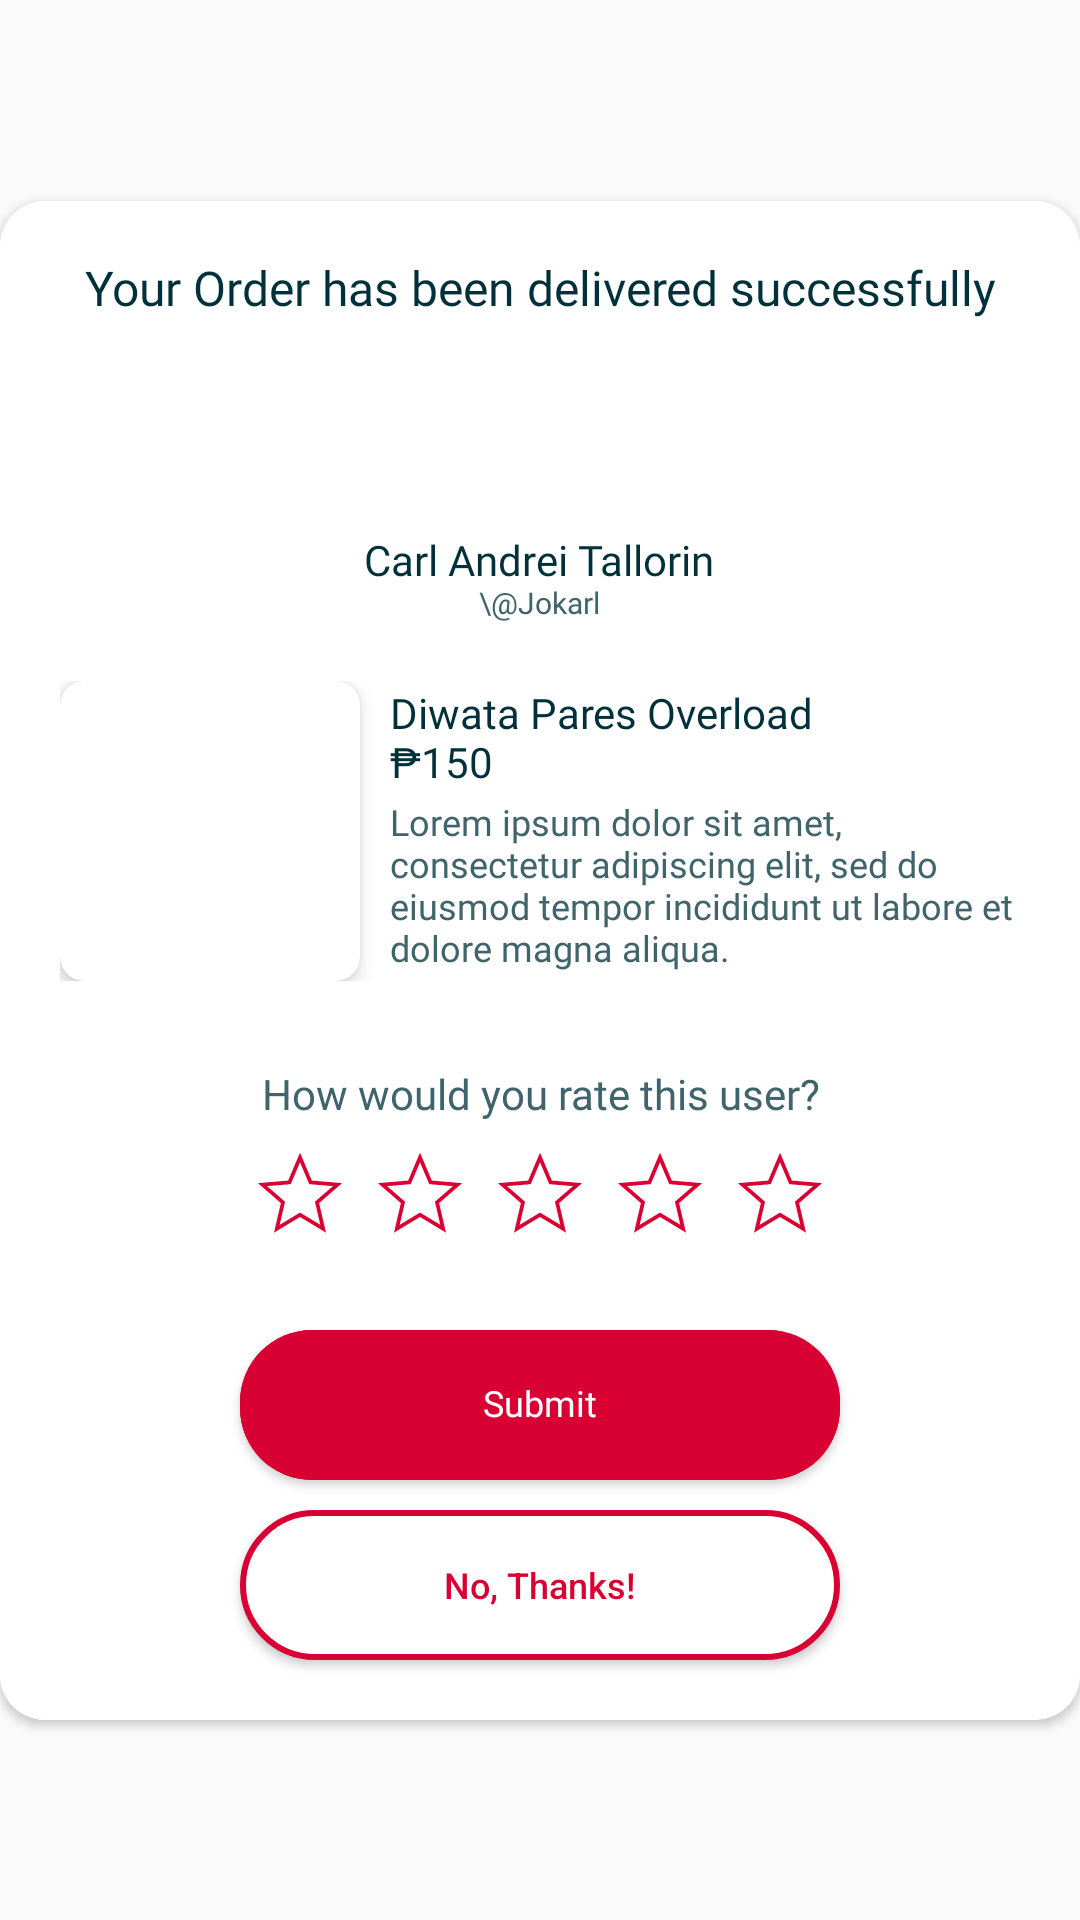

Named icons in this screenshot (1080px×1920px) and their bounding boxes, box=[x1, y1, x2, y2]:
non star: box=[258, 1153, 342, 1233], box=[378, 1153, 462, 1233], box=[498, 1153, 582, 1233], box=[618, 1153, 702, 1233], box=[738, 1153, 822, 1233]
